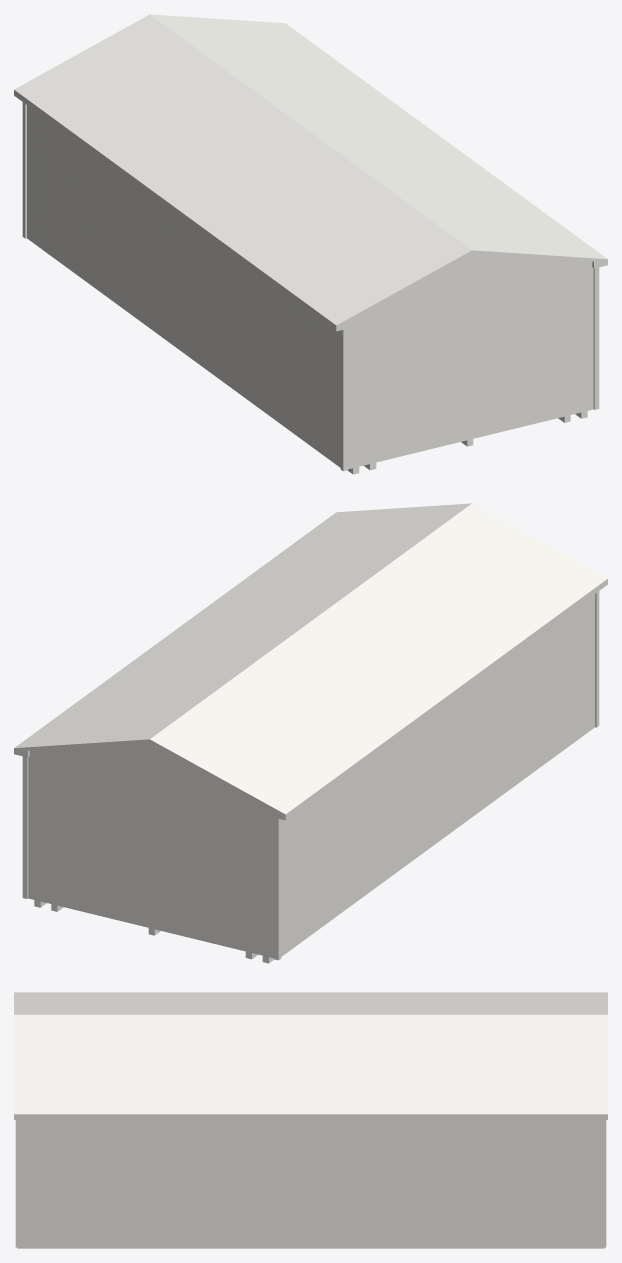
The model's file is 8 wide A-frame_7ft_14x30.obj.
3 renders of one model, top to bottom at view 1: azimuth 30°, elevation 25°; view 2: azimuth 150°, elevation 25°; view 3: azimuth 270°, elevation 25°, orthographic. The views are drawn at different scales.
Visible parts, largest first — view 1: Roof, Shed, Sides, Trim; view 2: Roof, Shed, Sides, Trim; view 3: Shed, Roof, Sides, Trim, Floor.
Boxes of the visible parts, x1=… form: Roof: x1=14, y1=14, x2=607, y2=325; Shed: x1=27, y1=105, x2=593, y2=469; Sides: x1=14, y1=90, x2=607, y2=331; Trim: x1=22, y1=102, x2=599, y2=471; Roof: x1=14, y1=503, x2=607, y2=814; Shed: x1=28, y1=594, x2=594, y2=958; Sides: x1=14, y1=579, x2=607, y2=820; Trim: x1=22, y1=591, x2=599, y2=960; Shed: x1=20, y1=1120, x2=601, y2=1246; Roof: x1=14, y1=992, x2=607, y2=1114; Sides: x1=14, y1=1114, x2=607, y2=1119; Trim: x1=15, y1=1120, x2=606, y2=1247; Floor: x1=17, y1=1247, x2=604, y2=1248.
Size of the model in its own units: 4.5 by 3.12 by 9.25.
